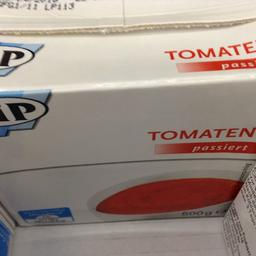tomato_sauce: (0, 0, 255, 227)
